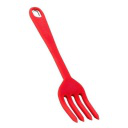Fork: (27, 7, 106, 127)
